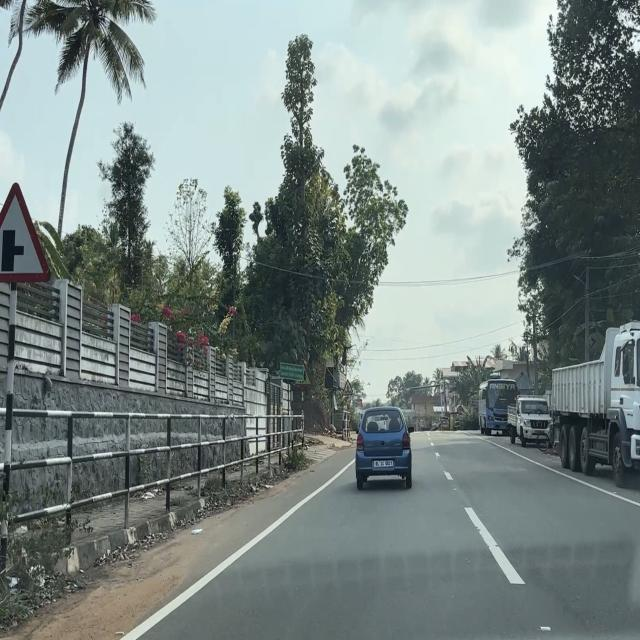GENERAL: (278, 362, 304, 382)
SIDE_ROAD_RIGHT: (0, 179, 53, 285)
